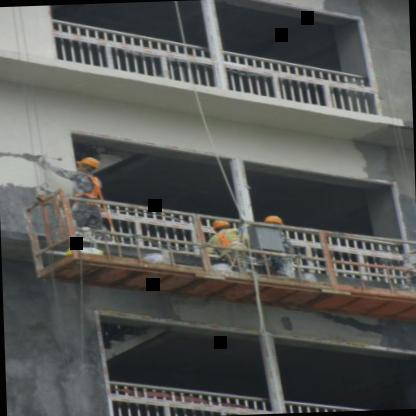helmet: (259, 210, 293, 233), (204, 215, 242, 235), (72, 155, 102, 176)
